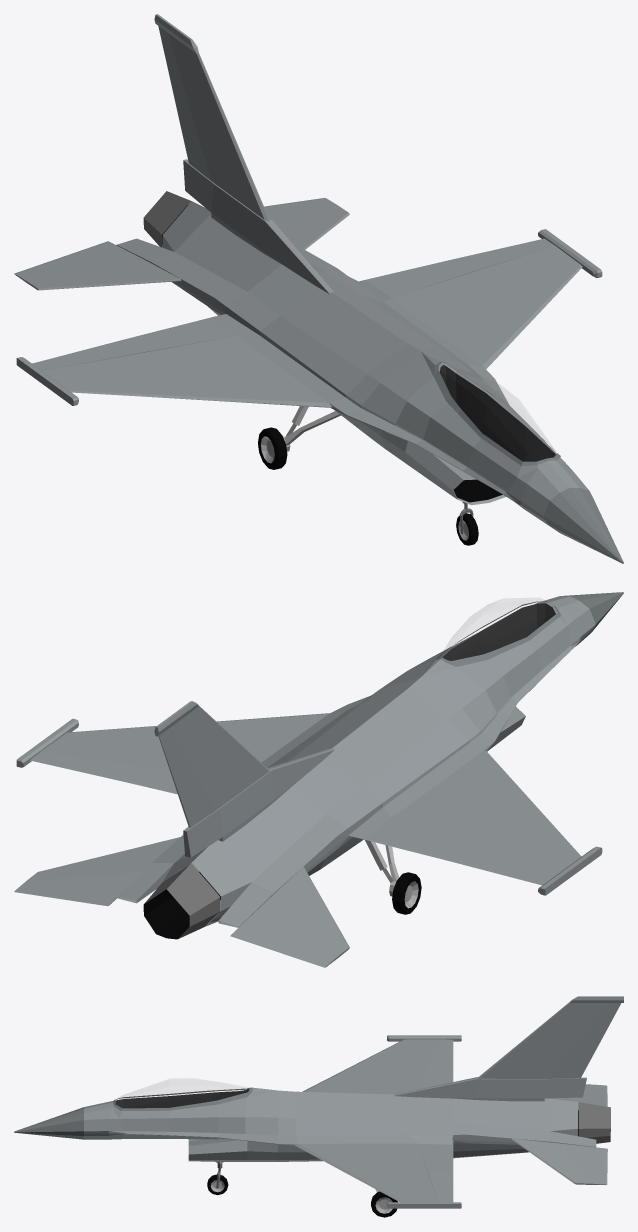
The picture shows the model from 3 angles, top to bottom: view 1: azimuth 30°, elevation 25°; view 2: azimuth 150°, elevation 25°; view 3: azimuth 270°, elevation 25°; orthographic projection. The views are drawn at different scales.
Parts seen in each view (by area): view 1: body.003, R_Elevator.003, R_Flap.003, L_Elevator.003, L_Flap.003, windshield.003, Circle.012, Landing gear_RR.003; view 2: body.003, R_Elevator.003, L_Elevator.003, R_Flap.003, Circle.012, windshield.003, L_Flap.003, Landing gear_RR.003, R_ailerone.003, L_ailerone.003; view 3: body.003, L_Elevator.003, windshield.003, Circle.012, L_Flap.003, R_Flap.003, R_Elevator.003, Landing gear_RL.003, Landing gear_F.003.
Part boxes in pixels (bbox=[...]): body.003: bbox=[16, 14, 623, 563]; R_Elevator.003: bbox=[14, 241, 181, 290]; R_Flap.003: bbox=[83, 317, 236, 360]; L_Elevator.003: bbox=[264, 198, 349, 249]; L_Flap.003: bbox=[365, 250, 506, 297]; windshield.003: bbox=[433, 362, 560, 465]; Circle.012: bbox=[158, 26, 210, 180]; Landing gear_RR.003: bbox=[258, 406, 340, 469]; body.003: bbox=[16, 592, 623, 939]; R_Elevator.003: bbox=[230, 867, 349, 967]; L_Elevator.003: bbox=[14, 837, 179, 906]; R_Flap.003: bbox=[364, 818, 506, 871]; Circle.012: bbox=[158, 727, 215, 827]; windshield.003: bbox=[435, 598, 560, 666]; L_Flap.003: bbox=[83, 760, 177, 794]; Landing gear_RR.003: bbox=[365, 840, 421, 914]; R_ailerone.003: bbox=[491, 859, 553, 885]; L_ailerone.003: bbox=[30, 751, 98, 772]; body.003: bbox=[14, 996, 623, 1208]; L_Elevator.003: bbox=[511, 1138, 607, 1185]; windshield.003: bbox=[113, 1079, 252, 1110]; Circle.012: bbox=[550, 1003, 621, 1078]; L_Flap.003: bbox=[418, 1143, 453, 1186]; R_Flap.003: bbox=[420, 1055, 453, 1088]; R_Elevator.003: bbox=[545, 1084, 607, 1106]; Landing gear_RL.003: bbox=[371, 1189, 397, 1217]; Landing gear_F.003: bbox=[207, 1162, 228, 1195].
Bounding box in the file's own units: 866 × 474 × 1324.
